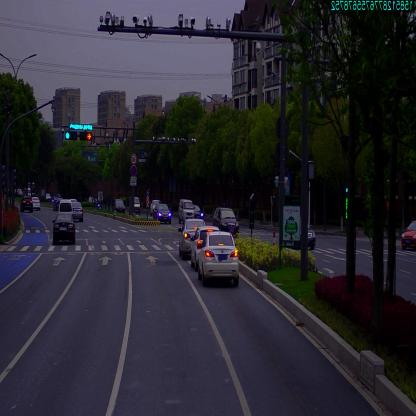traffic-light: (70, 125, 92, 130), (66, 133, 78, 138), (80, 134, 92, 138)
